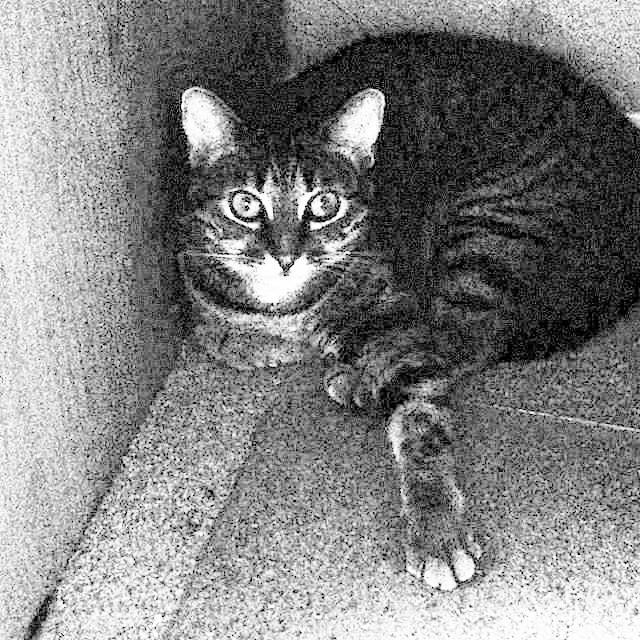Cat: (173, 34, 640, 575)
